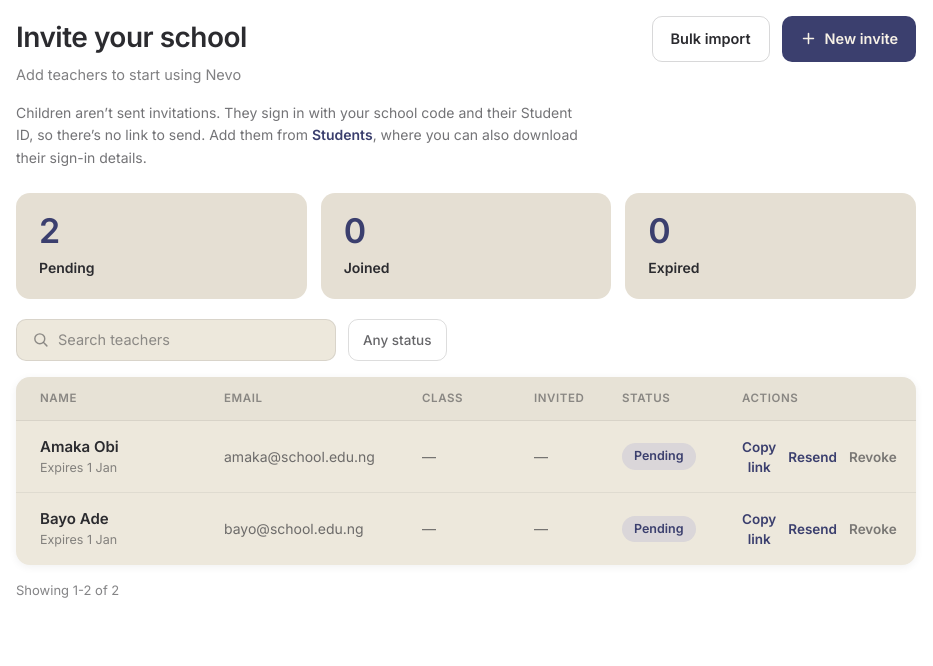
Test: a confirmed resend › is said in that row, and stays
Expected: the text "Bayo Ade" is shown, [40,509,109,528]
Click the button "Resend" in the row of "amaka@school.edu.ng". click: (813, 457)
box: [788,447,837,467]
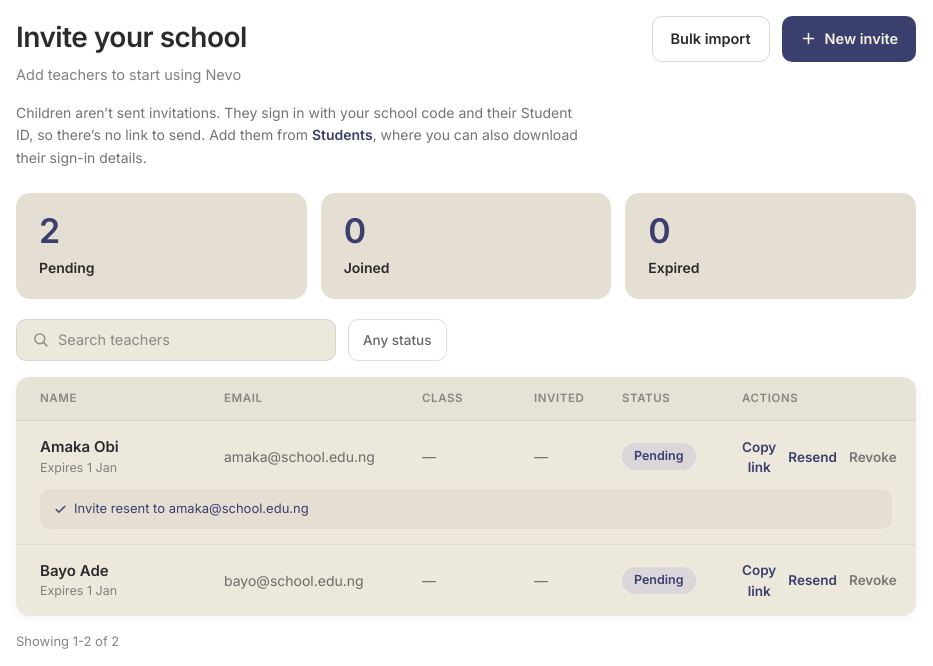
Expected: the text "Invite resent to amaka@school.edu.ng" is shown, [40,489,892,529]
